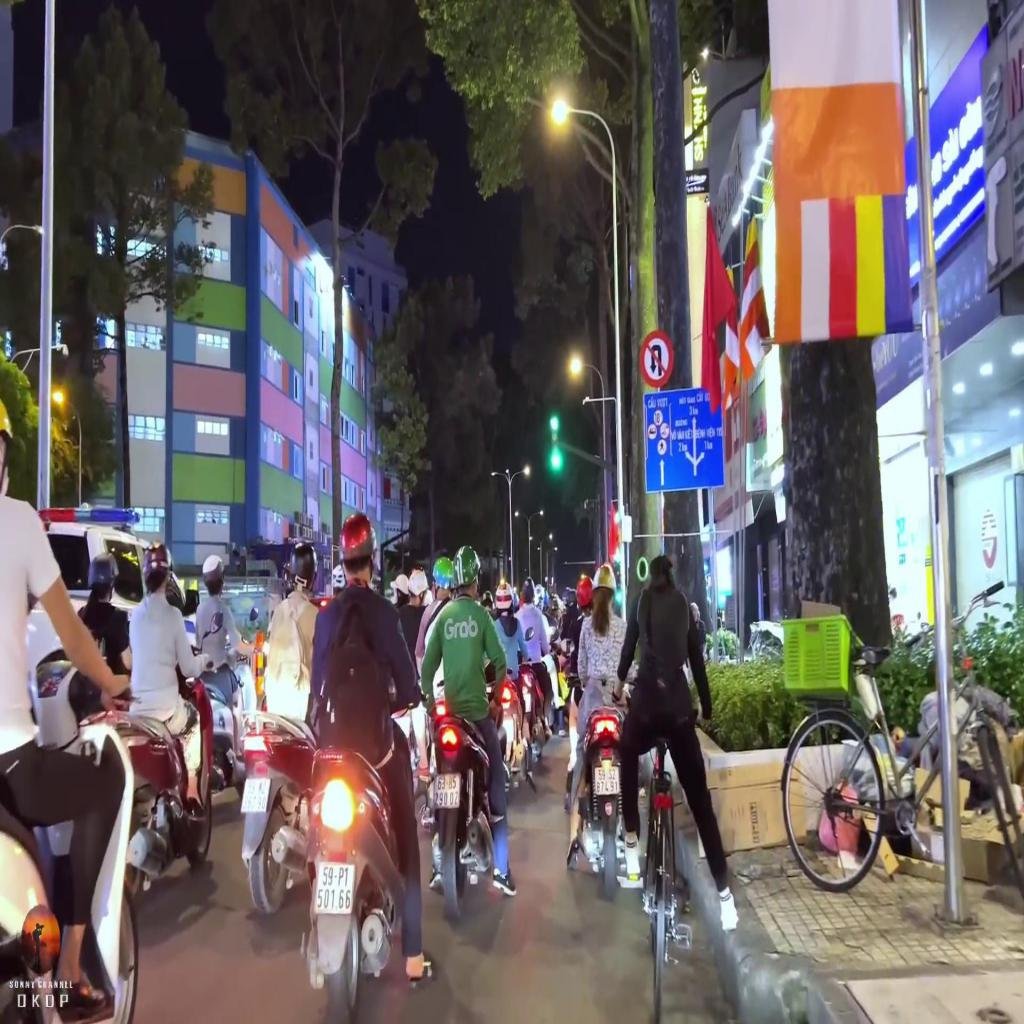cam_quay_dau_xe: (640, 329, 674, 387)
khac: (643, 387, 724, 492)
